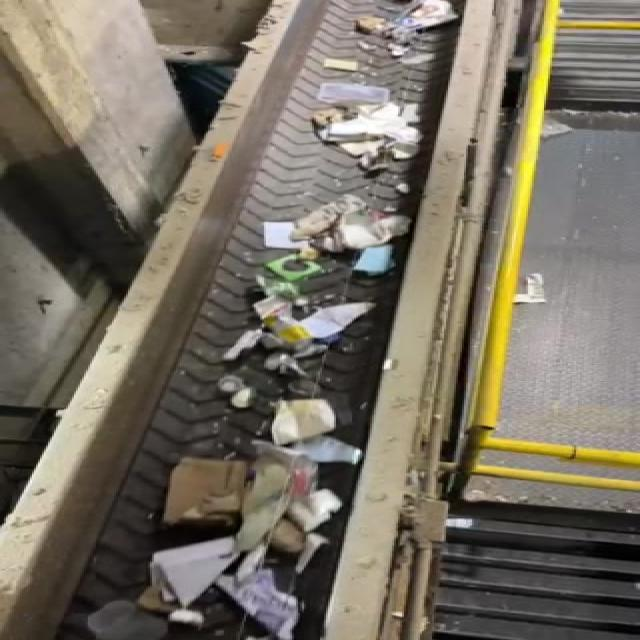paper: (139, 534, 248, 609), (162, 456, 258, 531)
